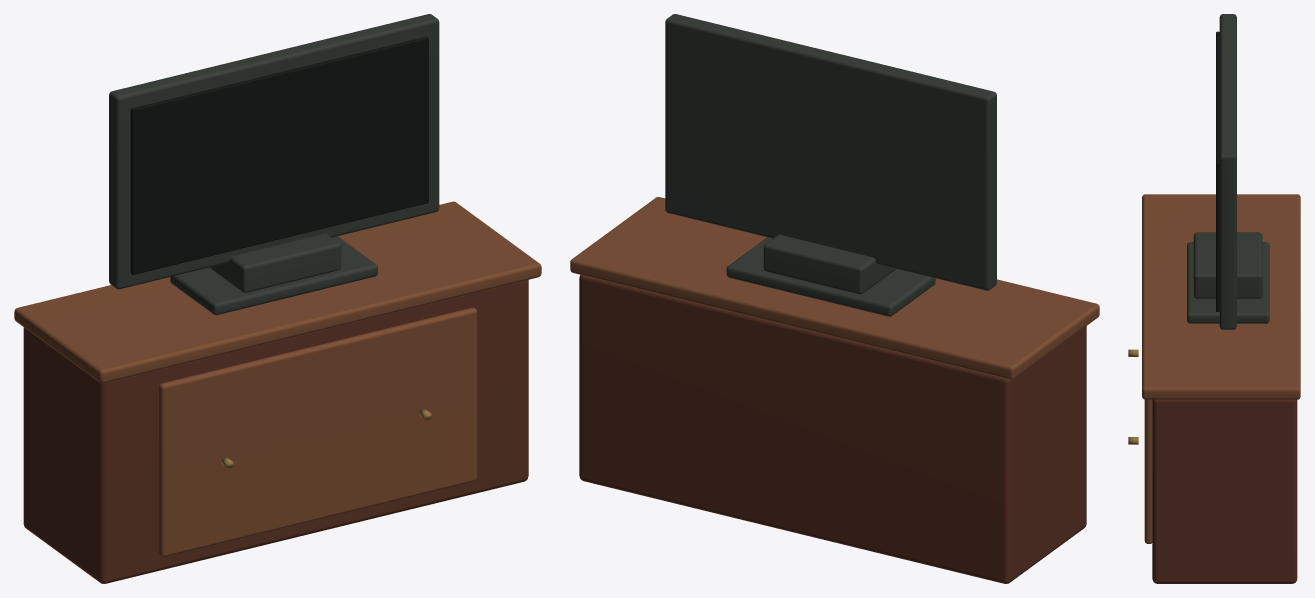
3 views of the same model, side by side, from view 1: azimuth 30°, elevation 25°; view 2: azimuth 150°, elevation 25°; view 3: azimuth 270°, elevation 25° (orthographic). The views are drawn at different scales.
Visible parts, largest first — view 1: tv__Mahogany_edges, tv__Screen_glass, tv__Dark_mahogany, tv__Oxidized_iron; view 2: tv__Dark_mahogany, tv__Oxidized_iron, tv__Mahogany_edges; view 3: tv__Dark_mahogany, tv__Mahogany_edges, tv__Oxidized_iron, tv__Screen_glass.
Part boxes in pixels (left/top/right/bottom): tv__Mahogany_edges: left=14, top=201, right=541, bottom=556; tv__Screen_glass: left=130, top=36, right=428, bottom=274; tv__Dark_mahogany: left=23, top=280, right=528, bottom=583; tv__Oxidized_iron: left=109, top=14, right=439, bottom=315; tv__Dark_mahogany: left=579, top=275, right=1086, bottom=583; tv__Oxidized_iron: left=665, top=14, right=996, bottom=316; tv__Mahogany_edges: left=570, top=197, right=1099, bottom=379; tv__Dark_mahogany: left=1152, top=399, right=1297, bottom=583; tv__Mahogany_edges: left=1142, top=194, right=1300, bottom=543; tv__Oxidized_iron: left=1187, top=14, right=1269, bottom=329; tv__Screen_glass: left=1216, top=31, right=1219, bottom=311.
Size of the model in its own units: 1.34 by 1.3 by 0.5.
